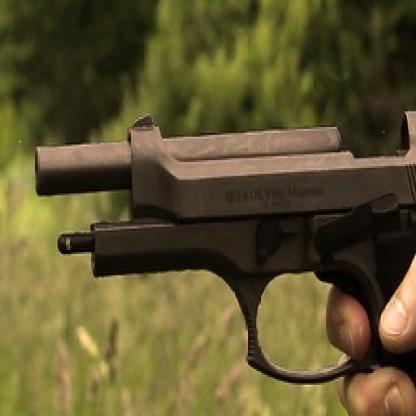gun: (33, 90, 414, 414)
